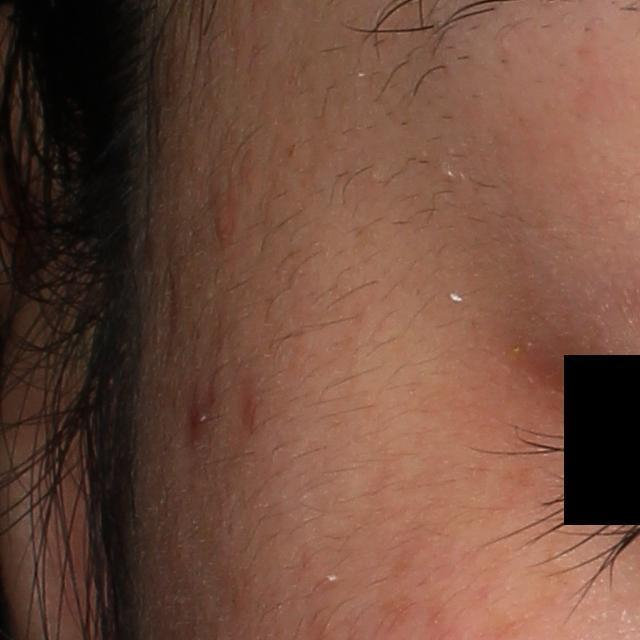papule: (209, 203, 243, 247)
